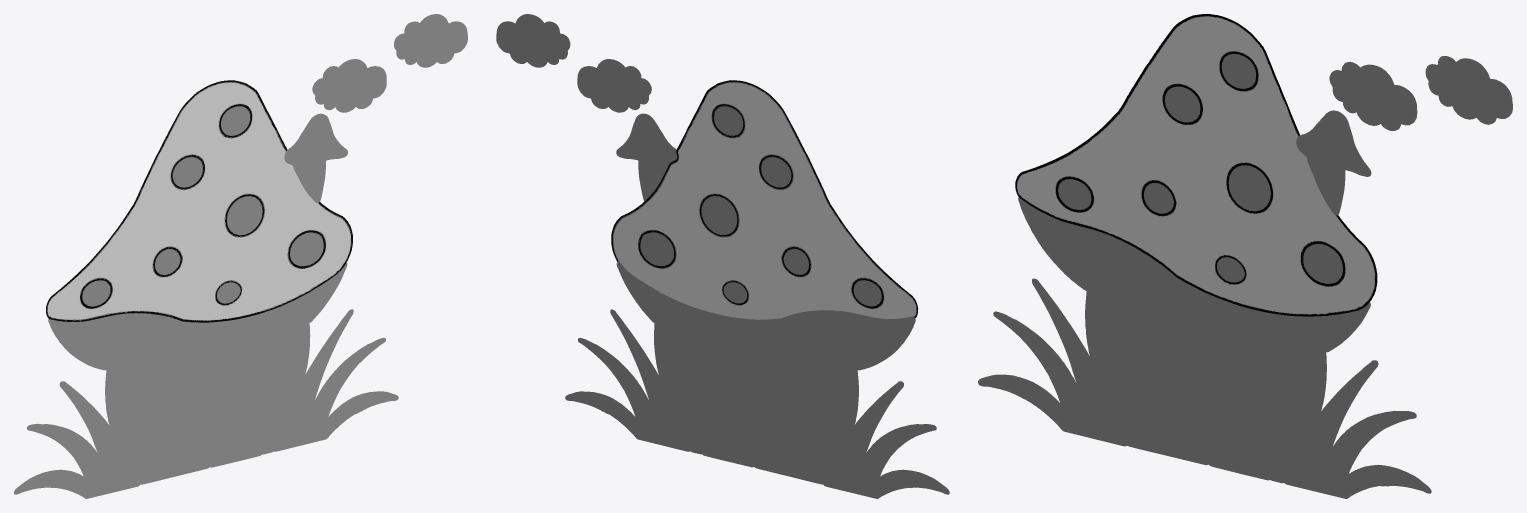
File: IMG_7.fbx
3 renders of one model, left to right at view 1: azimuth 30°, elevation 25°; view 2: azimuth 150°, elevation 25°; view 3: azimuth 330°, elevation 25°, orthographic. The views are drawn at different scales.
Visible parts, largest first — view 1: IMG_7; view 2: IMG_7; view 3: IMG_7.
Boxes of the visible parts, x1=… form: IMG_7: x1=14, y1=14, x2=467, y2=498; IMG_7: x1=496, y1=14, x2=949, y2=498; IMG_7: x1=978, y1=14, x2=1512, y2=498.
Size of the model in its own units: 18.92 by 15.95 by 0.017.
